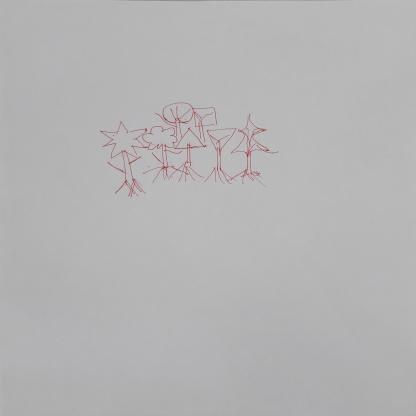crown_cloud: (139, 125, 181, 151)
trunk_straight: (117, 159, 138, 178), (158, 150, 173, 166)
